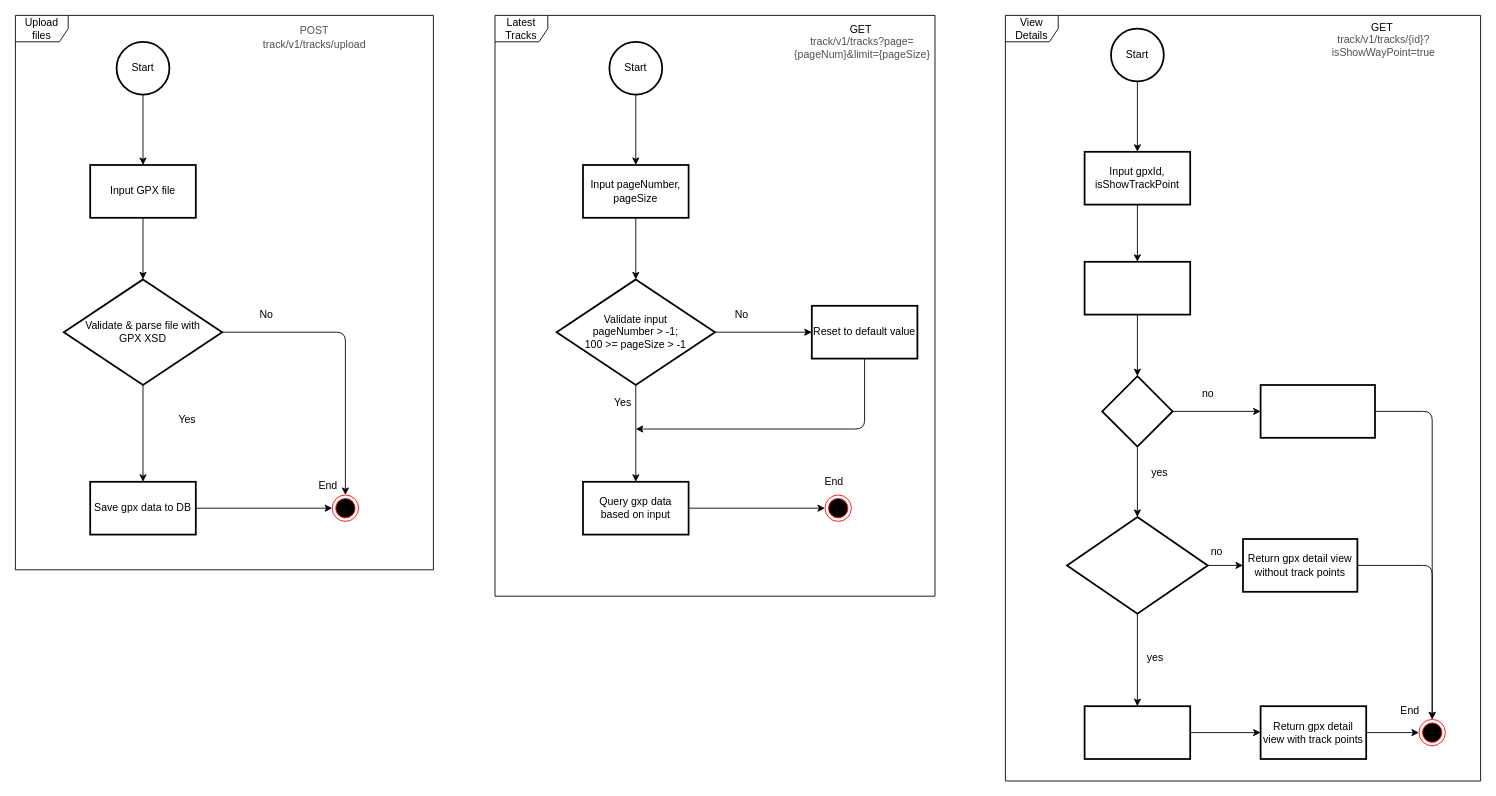
Some shapes in this 1496 by 796 pixel diagram are drawn without their labels. The shapes that lost their labels are listed below. From the top down, each one's centre as x and y in pixels, then its label:
At (1137,287): "Get GPX details by gpxId".
At (1137,411): "data found?".
At (1317,411): "Return not found error message".
At (1137,565): "isShowTrackPoint = true".
At (1137,732): "Get Track Points data".
